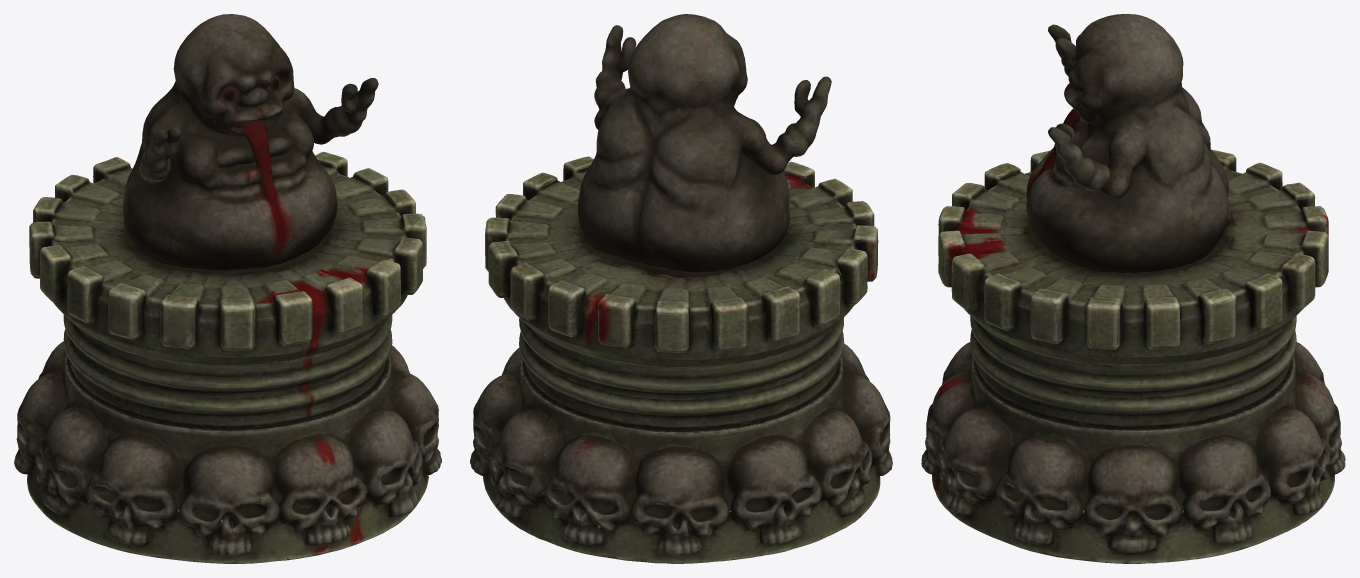
Rendered from COL5A0_2026-08-21T004542.238.glb.
The picture shows the model from 3 angles, left to right: view 1: azimuth 30°, elevation 25°; view 2: azimuth 150°, elevation 25°; view 3: azimuth 270°, elevation 25°; orthographic projection.
Visible parts, largest first — view 1: world; view 2: world; view 3: world.
Part boxes in pixels (x1,y1,x2,y2): world: (14,14,441,563); world: (470,14,892,563); world: (921,14,1345,563).
Size of the model in its own units: 0.8146 by 1 by 0.8368.
1 material, 1 textured.
